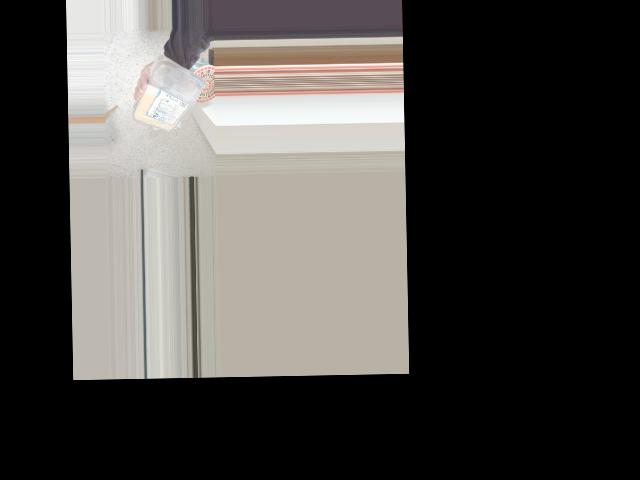cheese: (141, 64, 204, 134)
